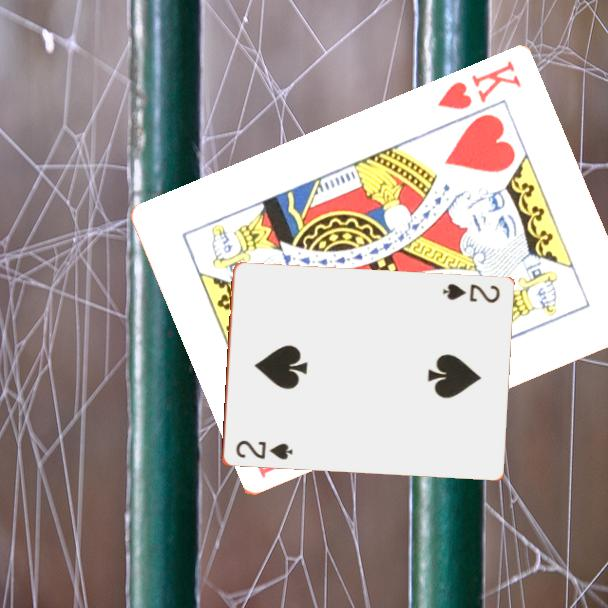h13: (433, 58, 524, 113)
s02: (232, 437, 295, 463), (439, 280, 502, 306)
